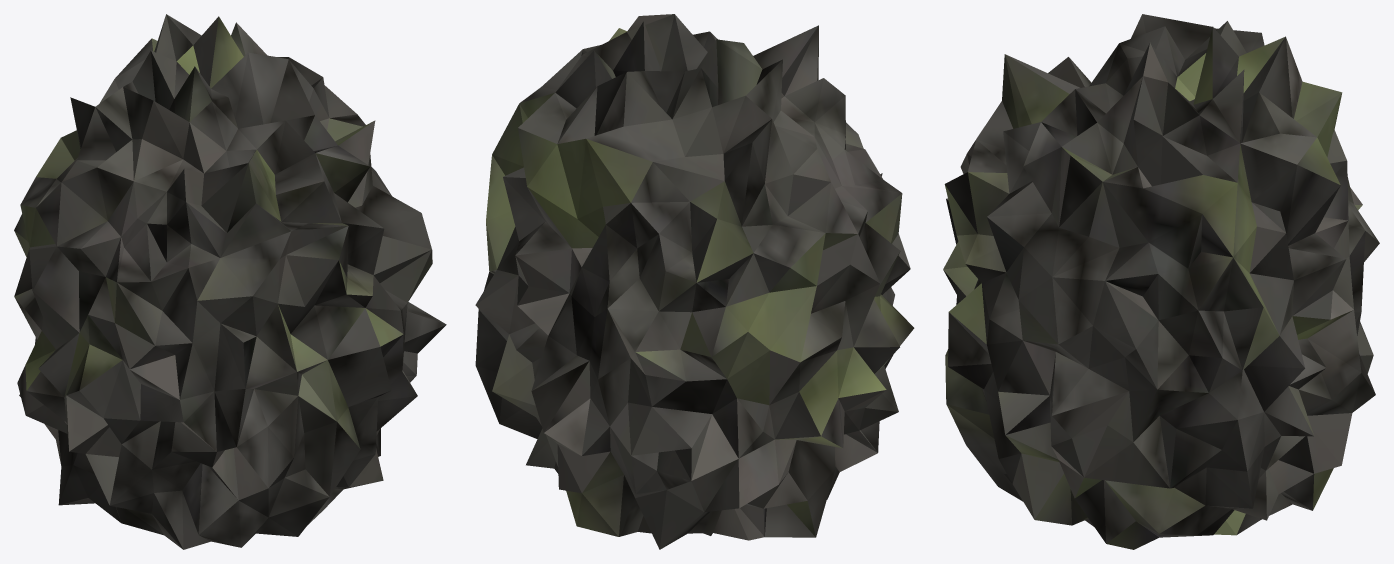
The model's file is cliffrock1.fbx.
3 views of the same model, side by side, from view 1: azimuth 30°, elevation 25°; view 2: azimuth 150°, elevation 25°; view 3: azimuth 270°, elevation 25° (orthographic). The views are drawn at different scales.
Parts seen in each view (by area): view 1: cliffrock1; view 2: cliffrock1; view 3: cliffrock1.
Part boxes in pixels (x1,y1,x2,y2): cliffrock1: [14, 14, 446, 549]; cliffrock1: [475, 14, 914, 549]; cliffrock1: [943, 14, 1379, 549].
Bounding box in the file's own units: 3.57 × 4.32 × 3.48.
Materials: 1 (1 with a texture image).
